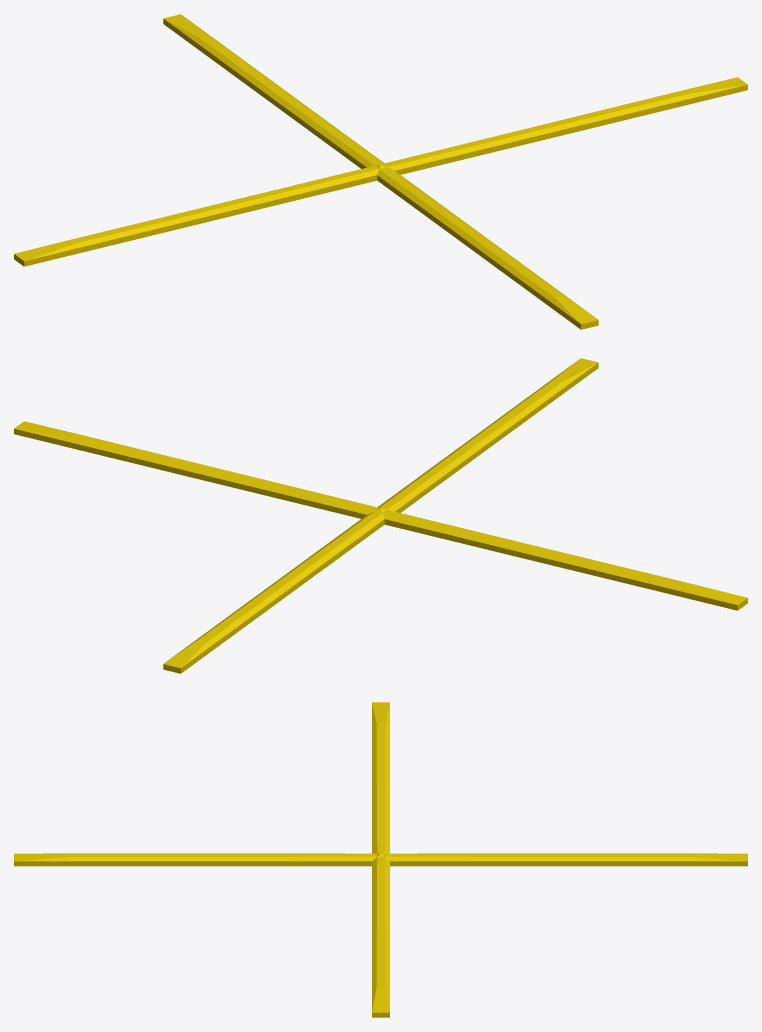
Rendered from Window Frame.fbx.
The picture shows the model from 3 angles, top to bottom: view 1: azimuth 30°, elevation 25°; view 2: azimuth 150°, elevation 25°; view 3: azimuth 270°, elevation 25°; orthographic projection. The views are drawn at different scales.
Parts seen in each view (by area): view 1: Cube; view 2: Cube; view 3: Cube.
Part boxes in pixels (box(x1,y1,x2,y2)): Cube: box(14, 14, 747, 329); Cube: box(14, 358, 747, 673); Cube: box(14, 702, 747, 1017).
Bounding box in the file's own units: 2051 × 28.57 × 2050.
